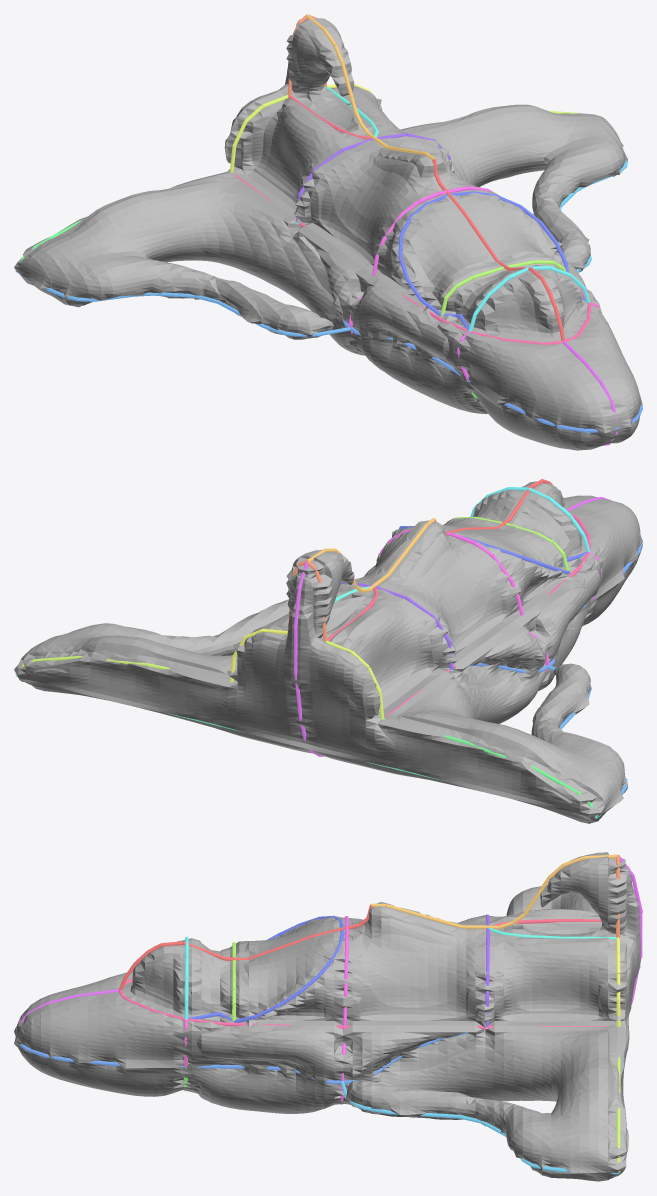
The model's file is t2f_fighter.gltf.
3 renders of one model, top to bottom at view 1: azimuth 30°, elevation 25°; view 2: azimuth 150°, elevation 25°; view 3: azimuth 270°, elevation 25°, orthographic. The views are drawn at different scales.
Size of the model in its own units: 0.7035 by 0.2788 by 0.6716.
